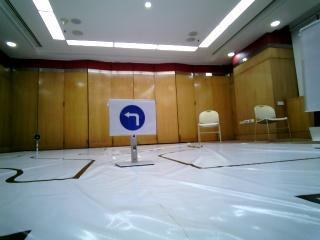left: (110, 100, 153, 133)
